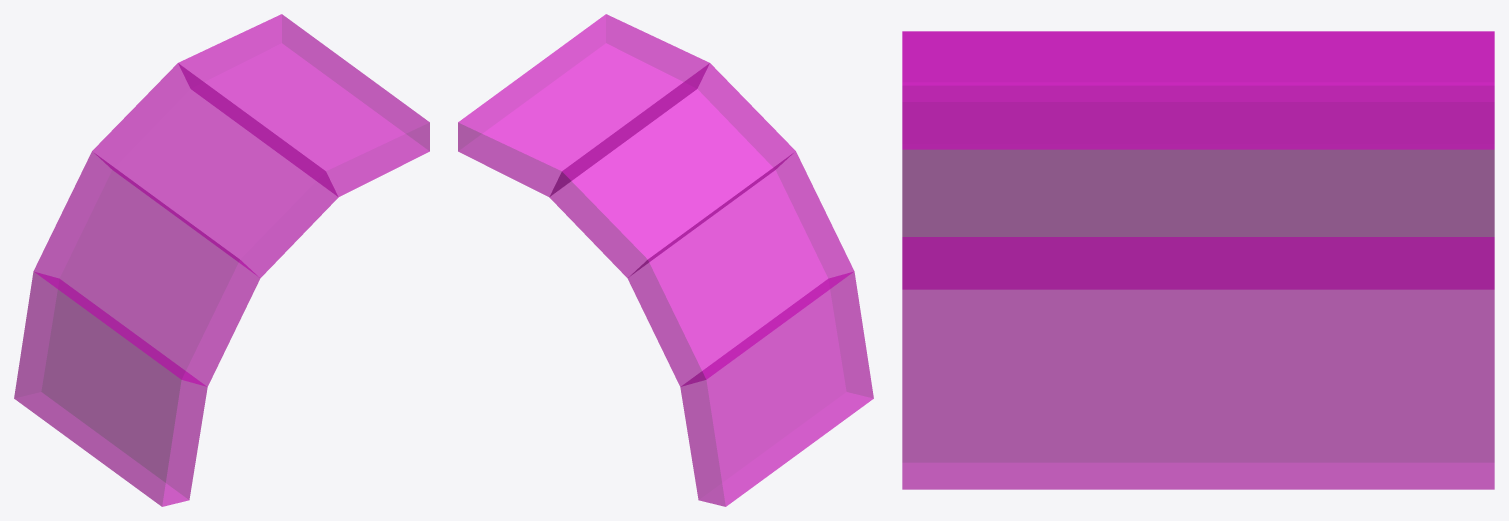
Rendered from SM_Bld_Wall_Arch_01_Collision.fbx.
The picture shows the model from 3 angles, left to right: view 1: azimuth 30°, elevation 25°; view 2: azimuth 150°, elevation 25°; view 3: azimuth 270°, elevation 25°; orthographic projection. The views are drawn at different scales.
Parts seen in each view (by area): view 1: SM_Bld_Wall_Arch_01_Collision; view 2: SM_Bld_Wall_Arch_01_Collision; view 3: SM_Bld_Wall_Arch_01_Collision.
Part boxes in pixels (left/top/right/bottom): SM_Bld_Wall_Arch_01_Collision: left=14, top=14, right=429, bottom=506; SM_Bld_Wall_Arch_01_Collision: left=458, top=14, right=873, bottom=506; SM_Bld_Wall_Arch_01_Collision: left=902, top=31, right=1494, bottom=489.
Bounding box in the file's own units: 264 × 301 × 253.
